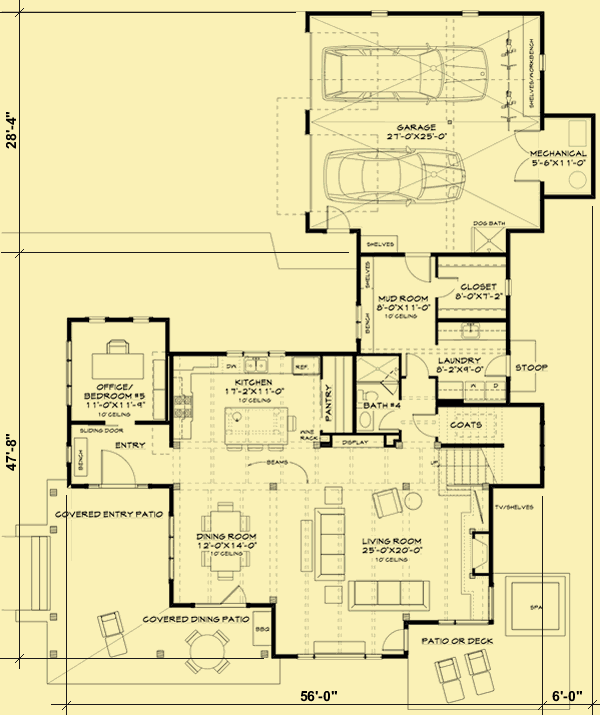bathroom has a shower space with small and large sink: (354, 355, 400, 433)
hall has a dining table for eating: (167, 482, 294, 610)
kitchen has a kitchen counter with cooking range and sink: (164, 350, 339, 488)
laundry room has washer and dryer: (436, 321, 511, 404)
livingroom has small and large sofas with tables: (294, 454, 491, 624)
open area has stairs: (437, 405, 544, 493)
the garage has two car parking: (304, 12, 544, 251)
